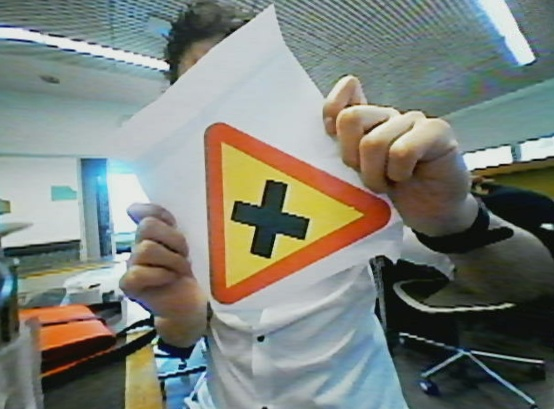junction: (205, 131, 391, 299)
